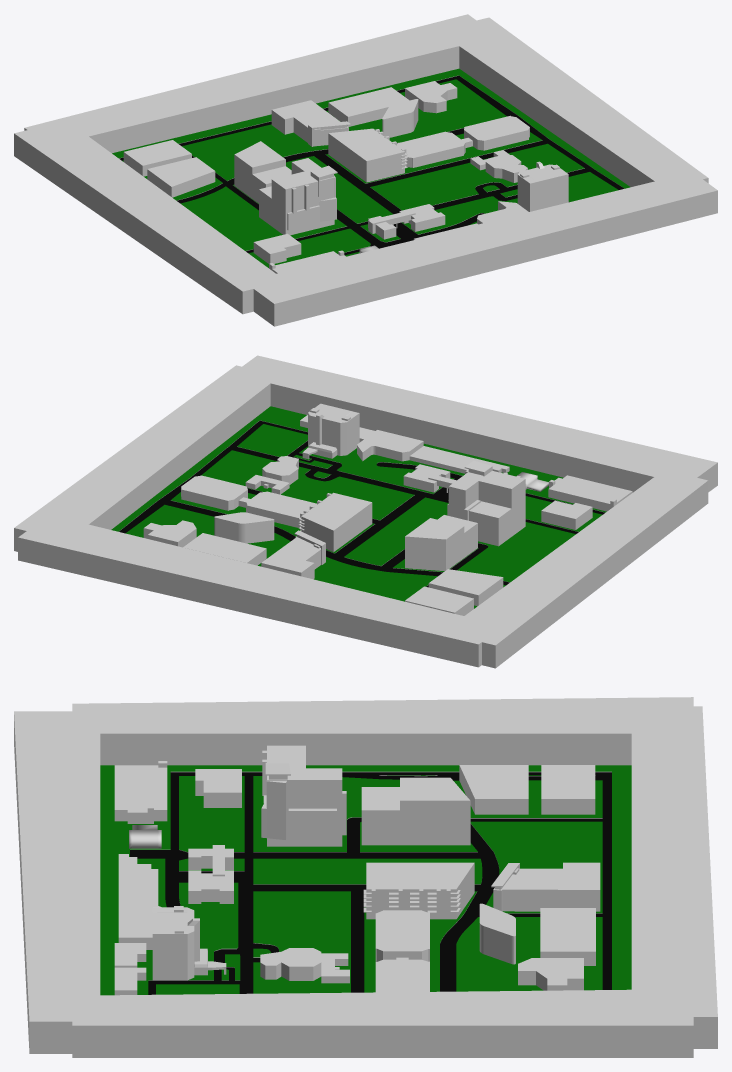
The model's file is map.fbx.
3 renders of one model, top to bottom at view 1: azimuth 30°, elevation 25°; view 2: azimuth 150°, elevation 25°; view 3: azimuth 270°, elevation 25°, orthographic. The views are drawn at different scales.
Parts seen in each view (by area): view 1: Plane.001, Cube.021, Cube.020, Cube.019, Cube.018, Cube.008, Cube.010, Cube.017, Cube.009, Cube.016, Cube.007, Cube.001 (+8 smaller); view 2: Plane.001, Cube.020, Cube.021, Cube.019, Cube.018, Cube.008, Cube.010, Cube.007, Cube.009, Cube.017, Cube, Cube.001 (+8 smaller); view 3: Plane.001, Cube.018, Cube.019, Cube.021, Cube.020, Cube.008, Cube.007, Cube.017, Cube.009, Cube.016, Cube.010, Cube.001 (+10 smaller).
Part boxes in pixels (bbox=[...]): Plane.001: bbox=[112, 68, 630, 267]; Cube.021: bbox=[253, 172, 717, 326]; Cube.020: bbox=[24, 14, 496, 153]; Cube.019: bbox=[14, 130, 285, 314]; Cube.018: bbox=[437, 17, 708, 186]; Cube.008: bbox=[259, 158, 337, 235]; Cube.010: bbox=[397, 115, 529, 167]; Cube.017: bbox=[123, 140, 215, 197]; Cube.009: bbox=[328, 128, 407, 182]; Cube.016: bbox=[271, 100, 351, 146]; Cube.007: bbox=[234, 141, 291, 203]; Cube.001: bbox=[517, 161, 568, 211]; Plane.001: bbox=[111, 406, 606, 608]; Cube.020: bbox=[18, 524, 503, 667]; Cube.021: bbox=[232, 355, 717, 492]; Cube.019: bbox=[464, 470, 708, 668]; Cube.018: bbox=[14, 365, 279, 551]; Cube.008: bbox=[447, 460, 525, 546]; Cube.010: bbox=[181, 475, 316, 527]; Cube.007: bbox=[405, 515, 477, 571]; Cube.009: bbox=[298, 492, 372, 552]; Cube.017: bbox=[405, 569, 503, 615]; Cube: bbox=[357, 430, 509, 473]; Cube.001: bbox=[302, 403, 359, 459]; Plane.001: bbox=[100, 765, 631, 995]; Cube.018: bbox=[72, 989, 693, 1057]; Cube.019: bbox=[72, 697, 693, 765]; Cube.021: bbox=[14, 711, 100, 1053]; Cube.020: bbox=[631, 706, 717, 1048]; Cube.008: bbox=[261, 745, 346, 846]; Cube.007: bbox=[361, 777, 470, 845]; Cube.017: bbox=[459, 765, 595, 814]; Cube.009: bbox=[363, 862, 474, 919]; Cube.016: bbox=[491, 862, 600, 911]; Cube.010: bbox=[375, 910, 429, 992]; Cube.001: bbox=[152, 906, 226, 980].
Bounding box in the file's own units: 27705 × 2950 × 25093.
